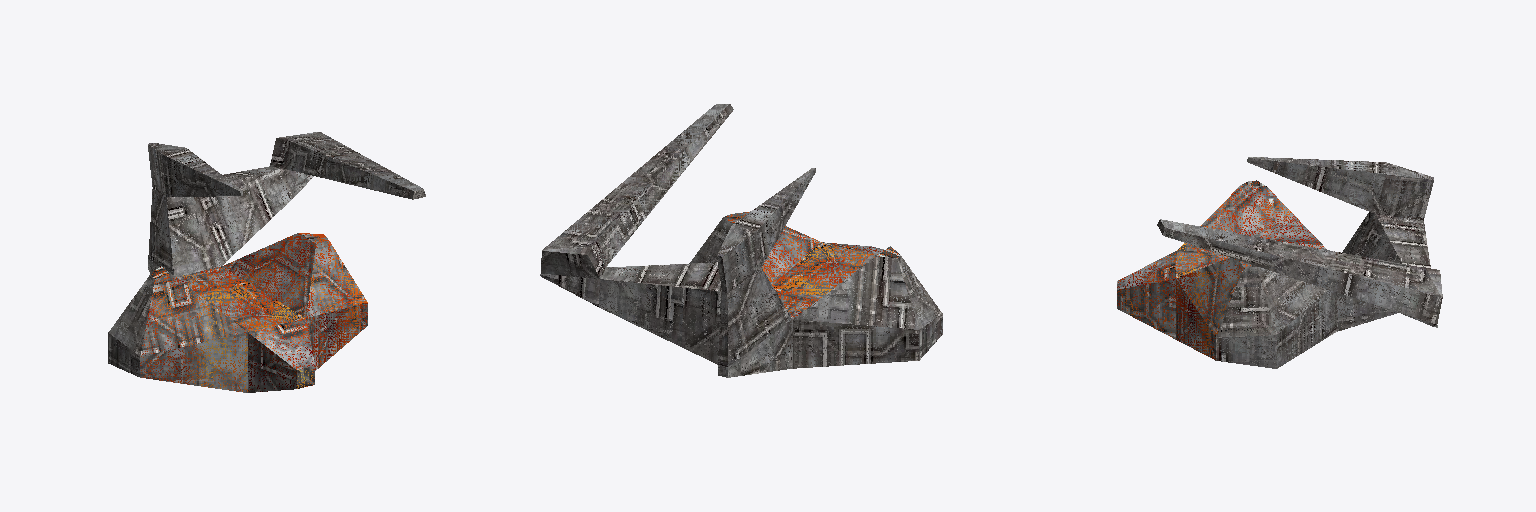
The picture shows the model from 3 angles: view 1: azimuth 30°, elevation 25°; view 2: azimuth 150°, elevation 25°; view 3: azimuth 270°, elevation 25°; orthographic projection.
Visible parts, largest first — view 1: Cube_Cube.001; view 2: Cube_Cube.001; view 3: Cube_Cube.001.
Boxes of the visible parts, x1,y1,x2,y2 form: Cube_Cube.001: [108, 132, 425, 392]; Cube_Cube.001: [540, 104, 942, 377]; Cube_Cube.001: [1117, 157, 1442, 368].
Bounding box in the file's own units: 6.97 × 3.77 × 6.57.
Materials: 2 (2 with a texture image).